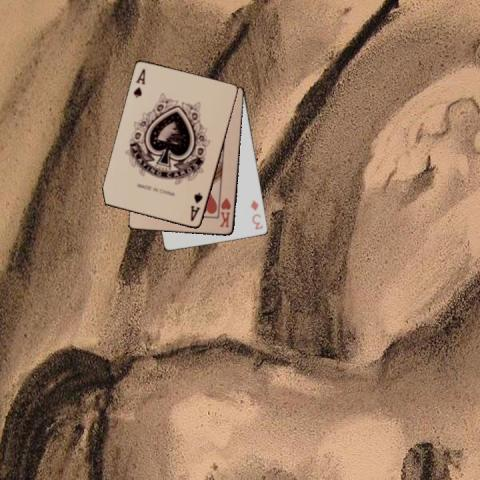3d: (248, 198, 265, 232)
As: (187, 189, 204, 223), (130, 66, 146, 99)
Kh: (217, 195, 232, 229)
